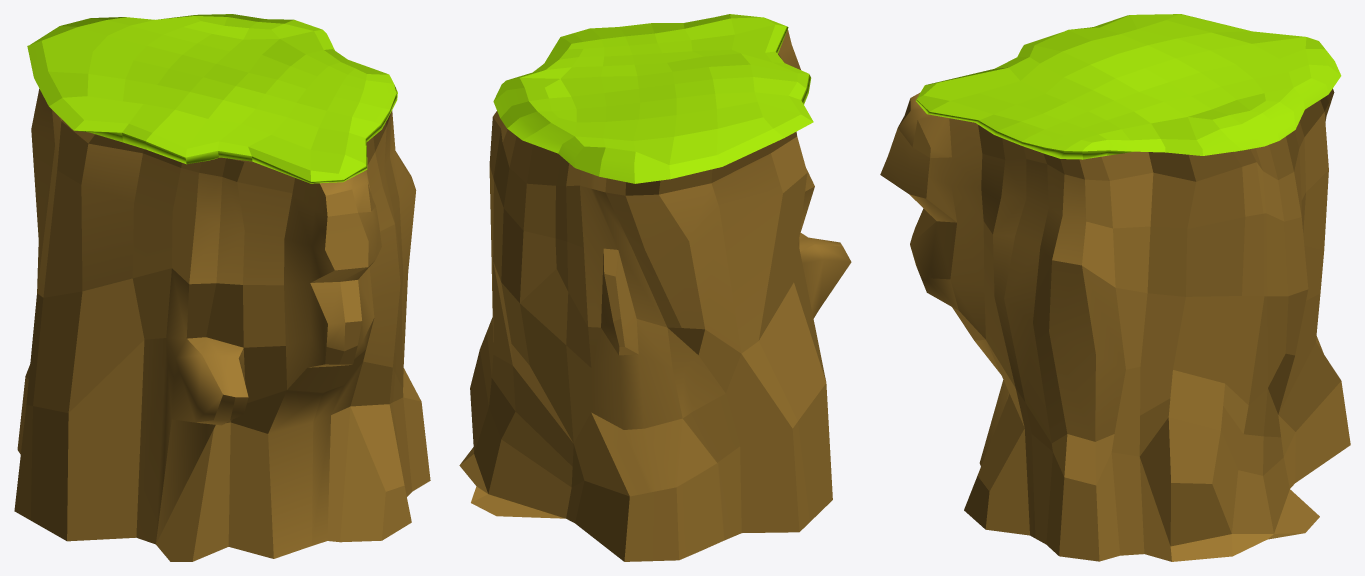
Rendered from cliffTest.fbx.
The picture shows the model from 3 angles, left to right: view 1: azimuth 30°, elevation 25°; view 2: azimuth 150°, elevation 25°; view 3: azimuth 270°, elevation 25°; orthographic projection. The views are drawn at different scales.
Parts seen in each view (by area): view 1: polySurface119, polySurface120; view 2: polySurface119, polySurface120; view 3: polySurface119, polySurface120.
Boxes of the visible parts, box(x1,y1,x2,y2) form: polySurface119: box(14, 89, 430, 561); polySurface120: box(27, 14, 397, 183); polySurface119: box(459, 29, 851, 561); polySurface120: box(493, 14, 813, 183); polySurface119: box(880, 88, 1350, 561); polySurface120: box(916, 14, 1341, 159).
Bounding box in the file's own units: 61 × 68.88 × 72.38.
